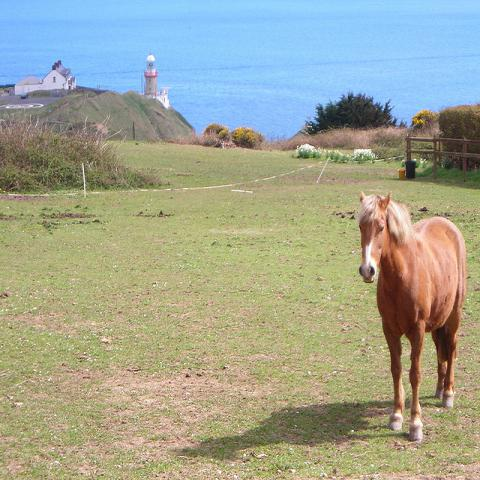car: (21, 94, 28, 99)
